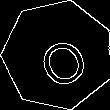O_NW: (27, 23, 89, 87)
